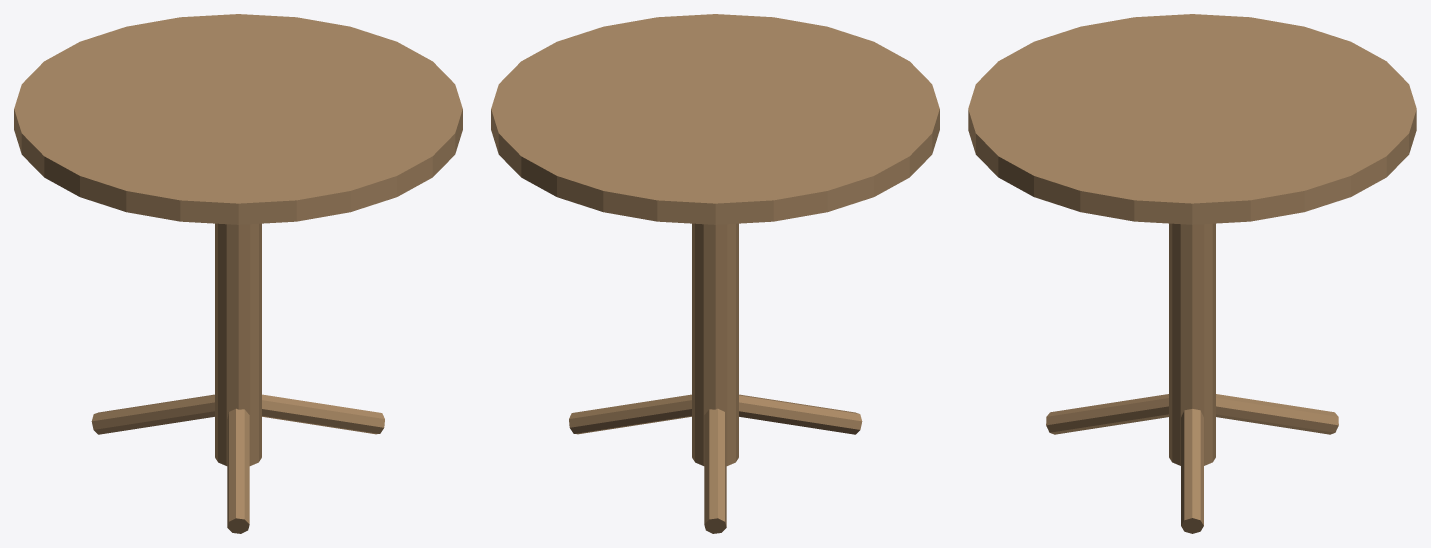
Rendered from table.glb.
The picture shows the model from 3 angles, left to right: view 1: azimuth 30°, elevation 25°; view 2: azimuth 150°, elevation 25°; view 3: azimuth 270°, elevation 25°; orthographic projection.
Parts seen in each view (by area): view 1: geometry_0; view 2: geometry_0; view 3: geometry_0.
Boxes of the visible parts, x1,y1,x2,y2 form: geometry_0: (14,14,462,533); geometry_0: (491,14,939,533); geometry_0: (968,14,1416,533).
Size of the model in its own units: 0.86 by 0.7586 by 0.86.
